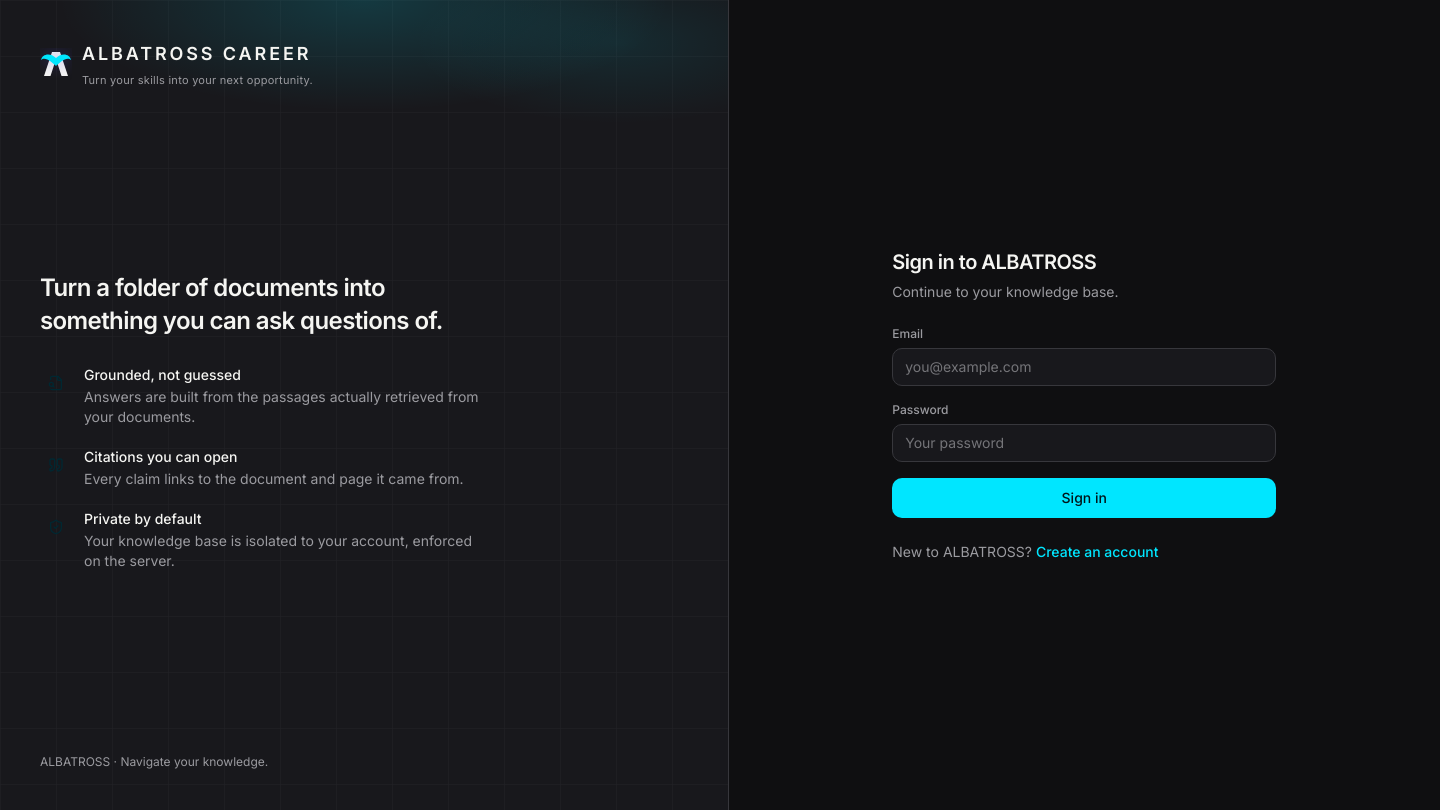
sign in › shows the server message and keeps the session empty when credentials fail
The width and height of the screenshot is (1440, 810).
Type "ada@example.com" into the field labelled "Email" at (1084, 367), box [892, 348, 1276, 386]
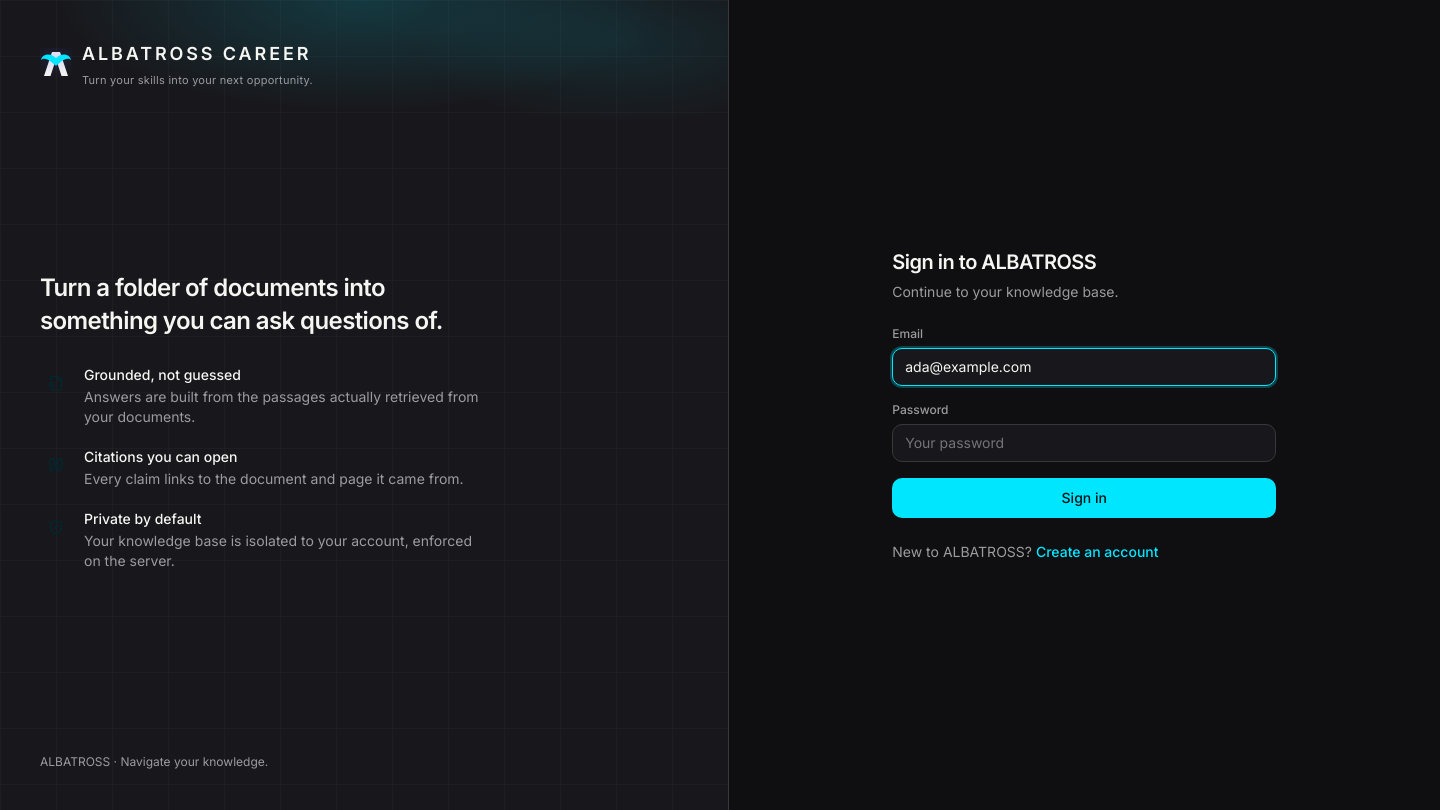
Type "WrongPass1" into the password field labelled "Password" at (1084, 443), box [892, 424, 1276, 462]
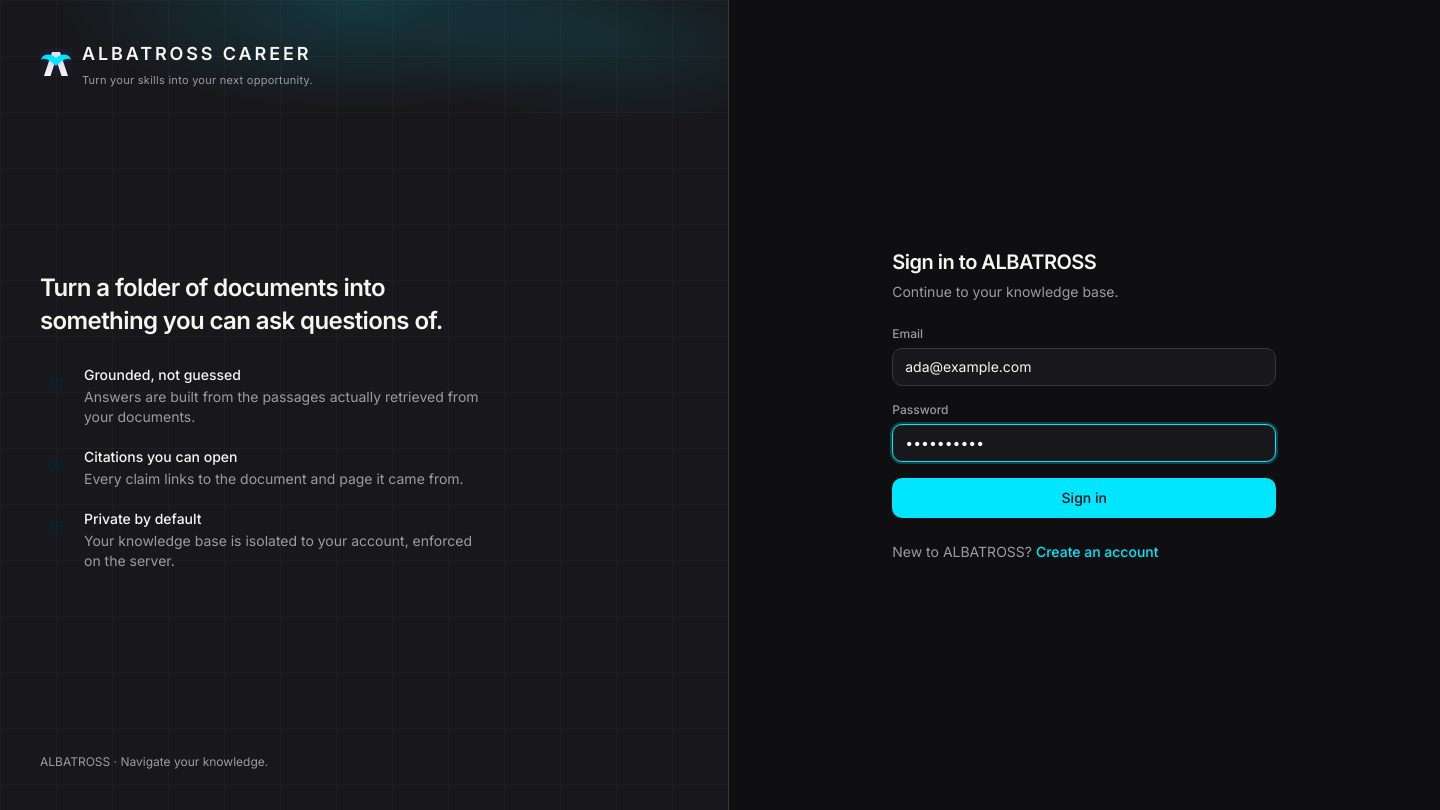
Click the button "Sign in" at (1084, 498), box [892, 478, 1276, 518]
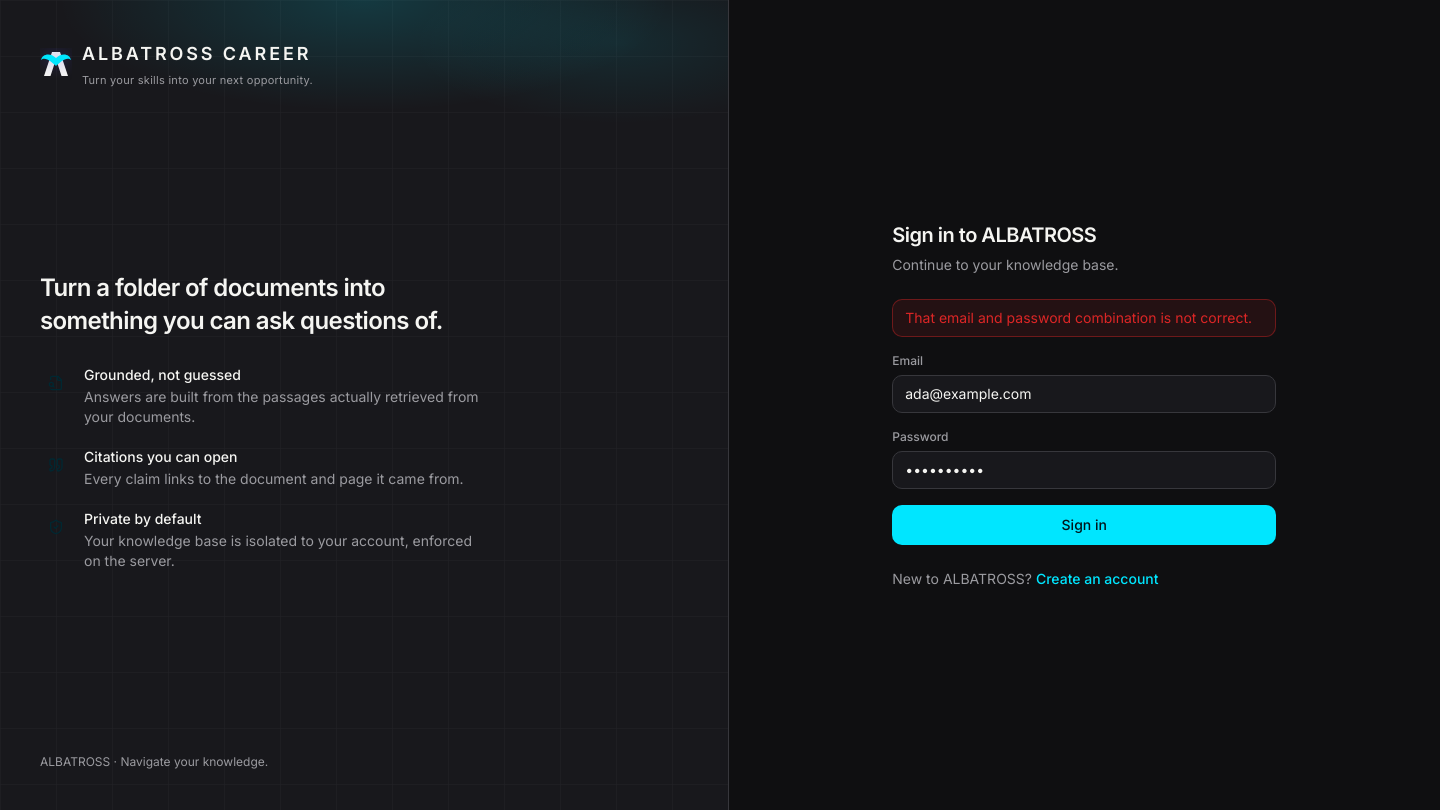
Now the message shows "not correct", box [905, 309, 1252, 326]
